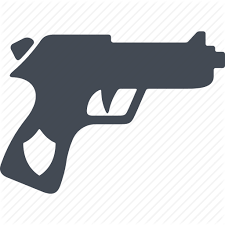gun: (1, 27, 225, 199)
